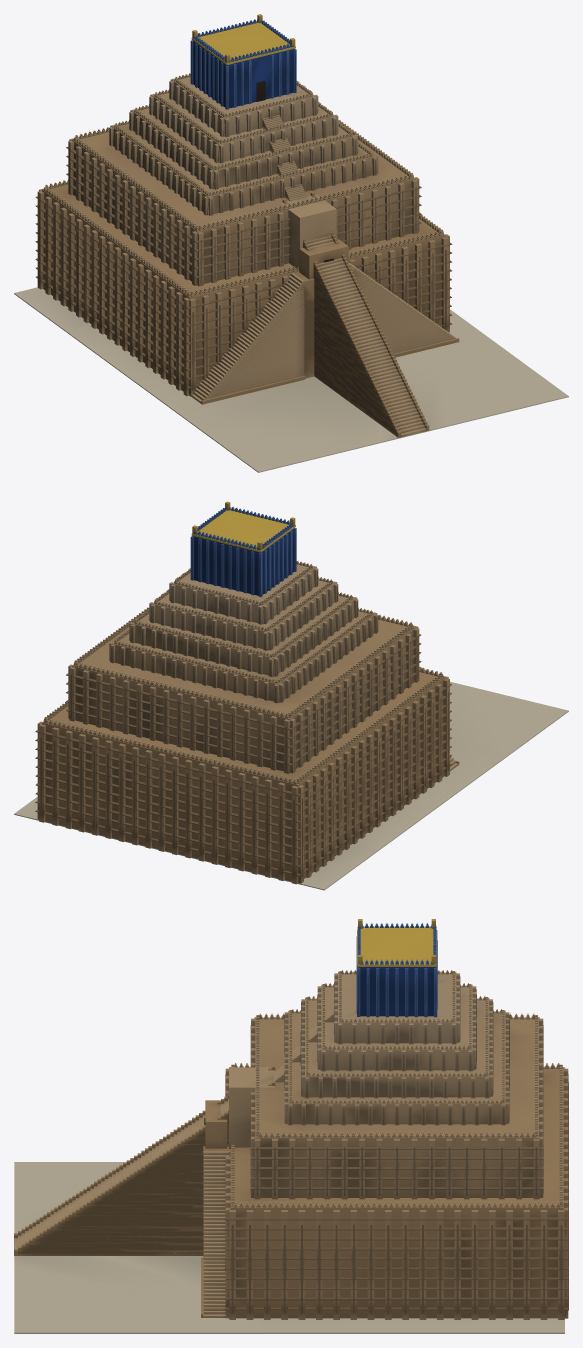
Rendered from etemenanki.glb.
3 views of the same model, one above another, from view 1: azimuth 30°, elevation 25°; view 2: azimuth 150°, elevation 25°; view 3: azimuth 270°, elevation 25° (orthographic). The views are drawn at different scales.
Parts seen in each view (by area): view 1: p0_first stage, p1_stairs and second stage, p2_upper stages, p3_temple; view 2: p0_first stage, p1_stairs and second stage, p2_upper stages, p3_temple; view 3: p0_first stage, p1_stairs and second stage, p2_upper stages, p3_temple.
Boxes of the visible parts, x1,y1,x2,y2 form: p0_first stage: (14, 184, 568, 472); p1_stairs and second stage: (66, 132, 459, 437); p2_upper stages: (109, 76, 378, 215); p3_temple: (43, 14, 443, 296); p0_first stage: (14, 671, 568, 890); p1_stairs and second stage: (66, 609, 459, 773); p2_upper stages: (109, 563, 378, 703); p3_temple: (43, 501, 443, 784); p0_first stage: (14, 1067, 568, 1333); p1_stairs and second stage: (14, 1017, 543, 1317); p2_upper stages: (274, 971, 509, 1125); p3_temple: (231, 919, 562, 1207).
Bounding box in the file's own units: 110 × 93.3 × 151.
